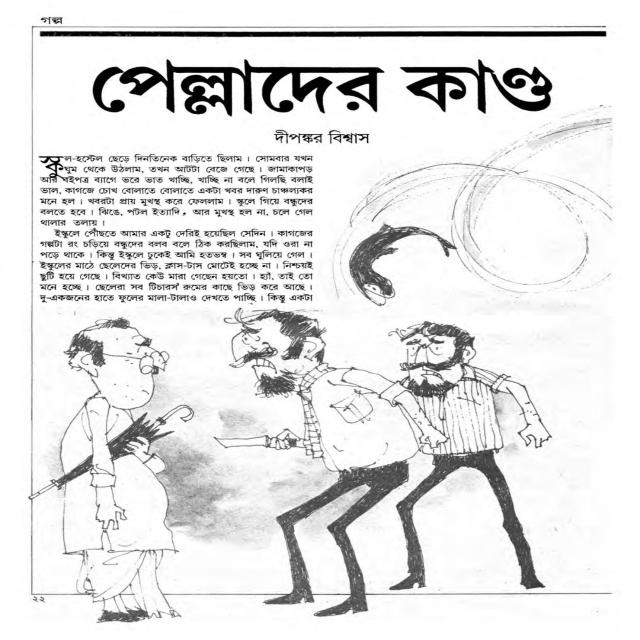image: (25, 98, 624, 630)
page number: (31, 594, 47, 604)
paragraph: (35, 228, 316, 304), (38, 153, 314, 227)
text: (273, 128, 372, 146), (40, 16, 63, 25)
title: (87, 57, 556, 114)
